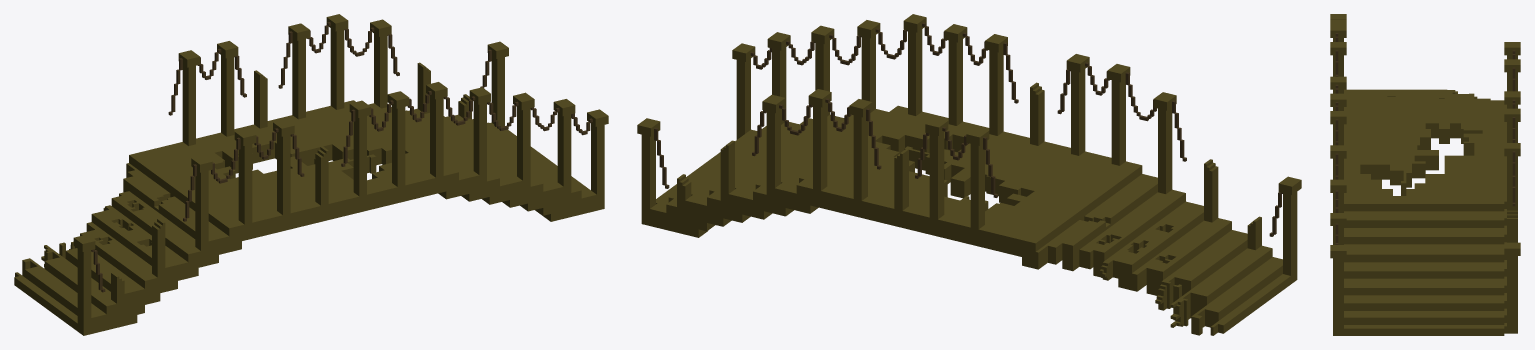
Rendered from broken wooden bridge.FBX.
3 views of the same model, side by side, from view 1: azimuth 30°, elevation 25°; view 2: azimuth 150°, elevation 25°; view 3: azimuth 270°, elevation 25° (orthographic). The views are drawn at different scales.
Visible parts, largest first — view 1: broken wooden bridge; view 2: broken wooden bridge; view 3: broken wooden bridge.
Boxes of the visible parts, left/top/right/bottom form: broken wooden bridge: left=14, top=14, right=608, bottom=335; broken wooden bridge: left=637, top=14, right=1301, bottom=335; broken wooden bridge: left=1330, top=14, right=1520, bottom=335.
Bounding box in the file's own units: 20.6 × 6 × 7.
1 material, 1 textured.
